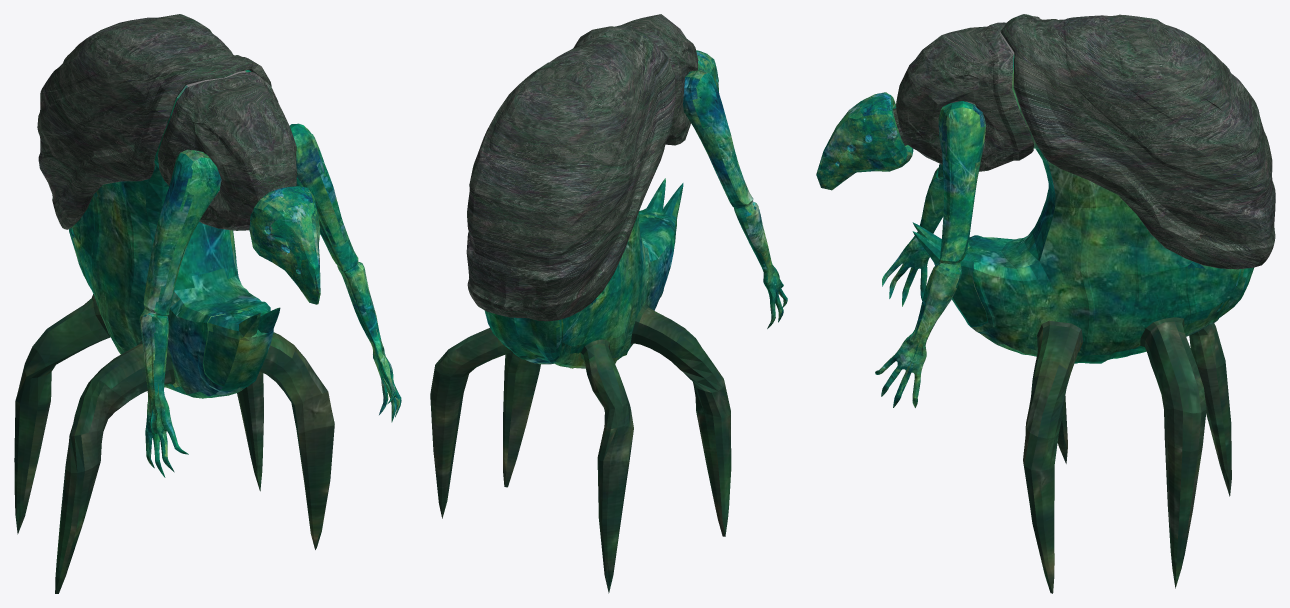
Rendered from Andar.0020.obj.
3 renders of one model, left to right at view 1: azimuth 30°, elevation 25°; view 2: azimuth 150°, elevation 25°; view 3: azimuth 270°, elevation 25°, orthographic. The views are drawn at different scales.
Bounding box in the file's own units: 2.08 × 3.94 × 3.18.
5 materials, 4 textured.
